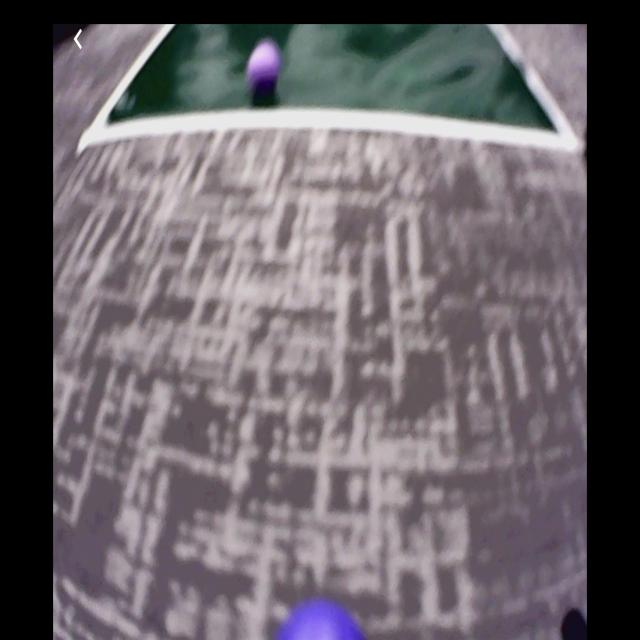ball: (273, 593, 364, 640), (247, 42, 282, 96)
